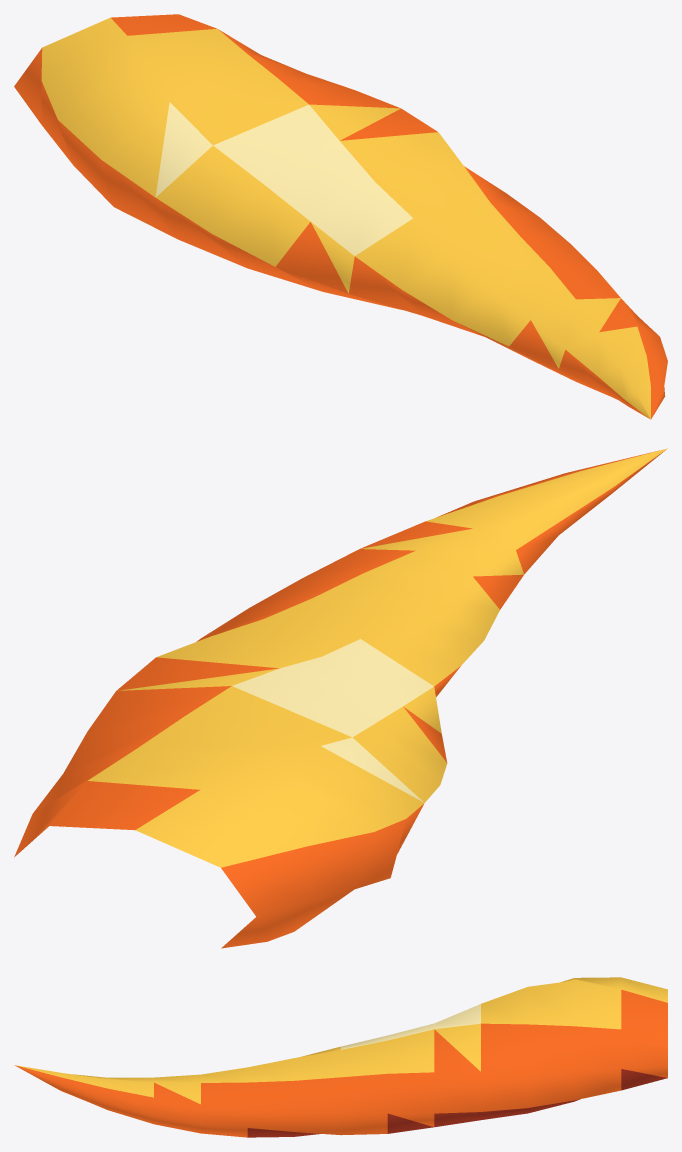
Rendered from flame_tongue.glb.
3 renders of one model, top to bottom at view 1: azimuth 30°, elevation 25°; view 2: azimuth 150°, elevation 25°; view 3: azimuth 270°, elevation 25°, orthographic. The views are drawn at different scales.
Visible parts, largest first — view 1: flame_tongue; view 2: flame_tongue; view 3: flame_tongue.
Boxes of the visible parts, x1,y1,x2,y2 form: flame_tongue: (14, 14, 667, 419); flame_tongue: (14, 448, 667, 948); flame_tongue: (14, 977, 667, 1137).
Size of the model in its own units: 0.7437 by 0.3309 by 2.
